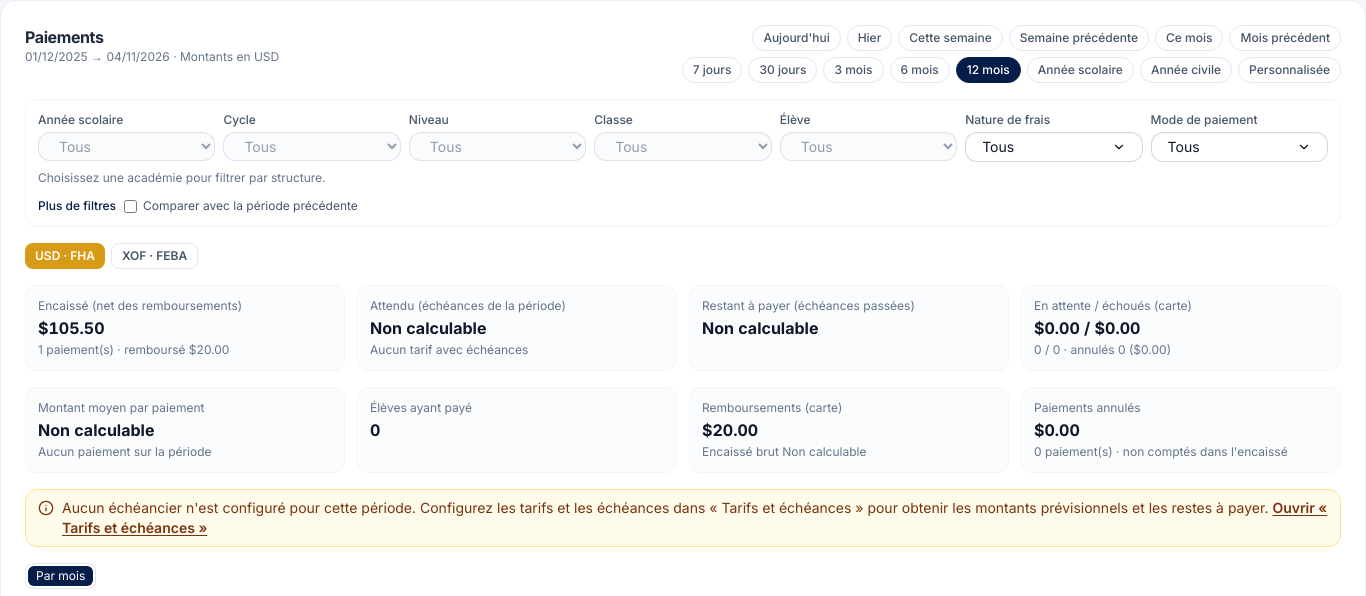
Scenario: graphique des paiements › comparaison : variation affichée, « non calculable » sans base ; message 400 explicite
Expected: the element with test id "ind-encaisse" is shown, [25,285,345,371]
Click the checkbox with test id "comparer" at (131, 206), box [124,200,137,212]
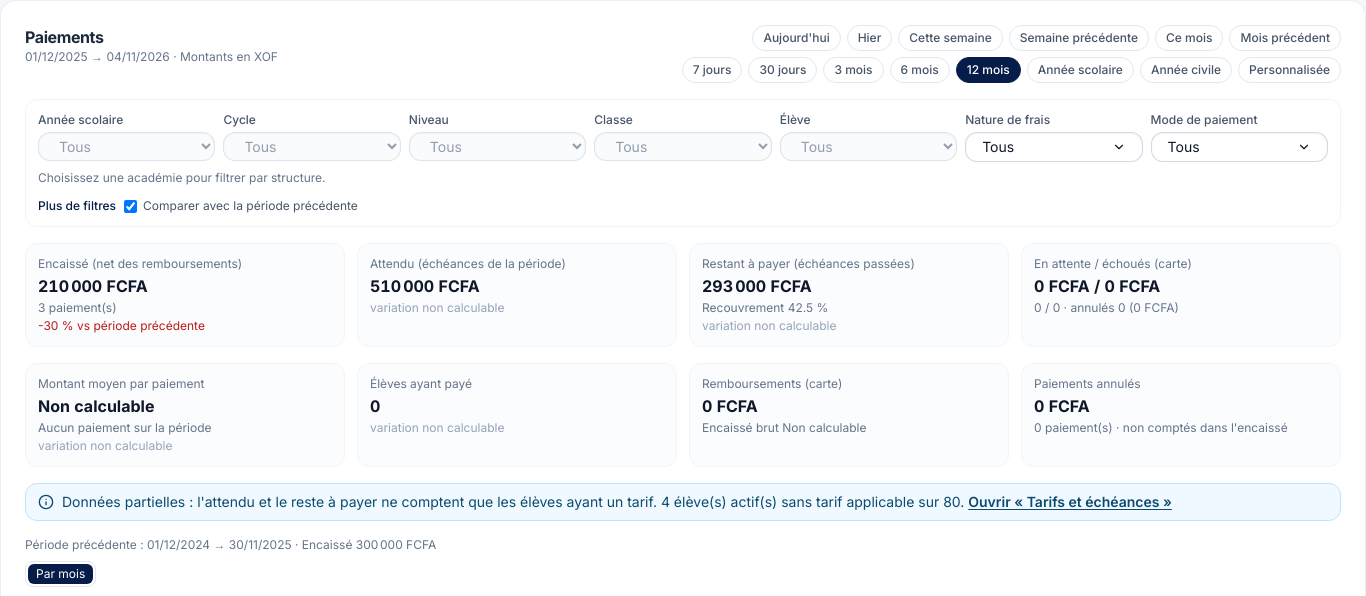
Now the element with test id "ind-encaisse-variation" reads "-30 % vs période précédente", box [38,318,205,333]
Now the element with test id "ind-attendu-variation" reads "variation non calculable", box [370,300,504,315]
Now the text with test id "periode-precedente" reads "Période précédente : 01/12/2024 → 30/11/2025 · Encaissé 300 000 FCFA", box [356,537,436,552]
Click the button with test id "periode-7j" at (712, 70), box [682,57,742,83]
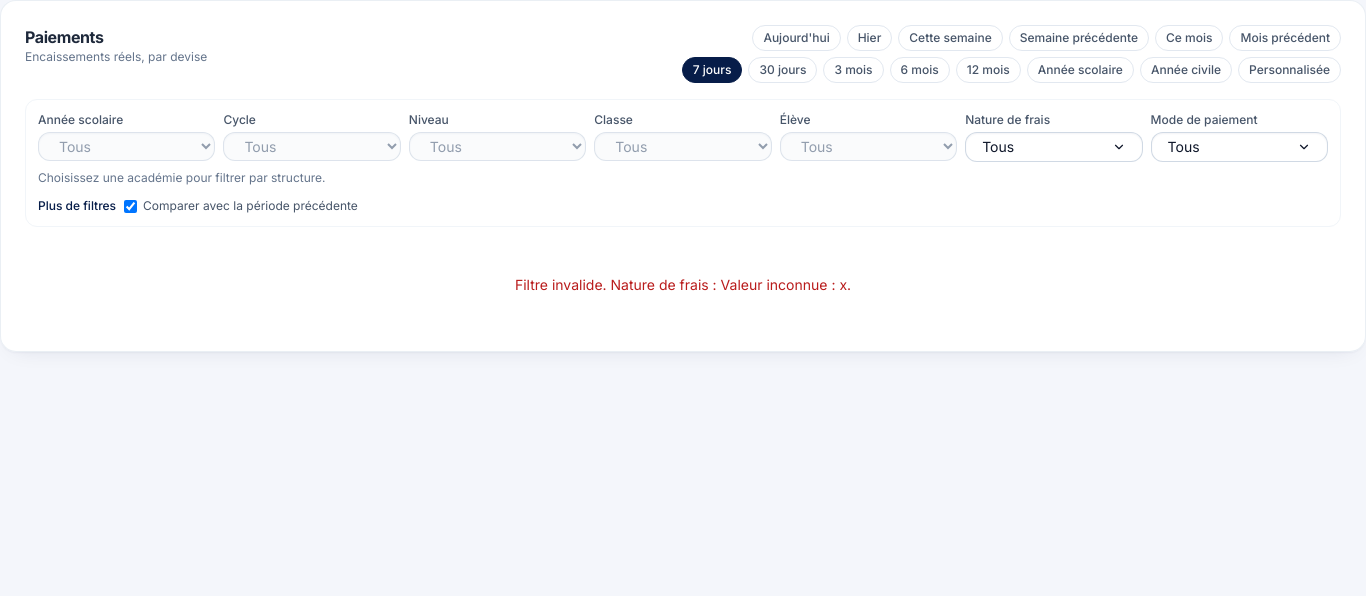
Now the message shows "Filtre invalide. Nature de frais : Valeur inconnue", box [515,276,851,293]
